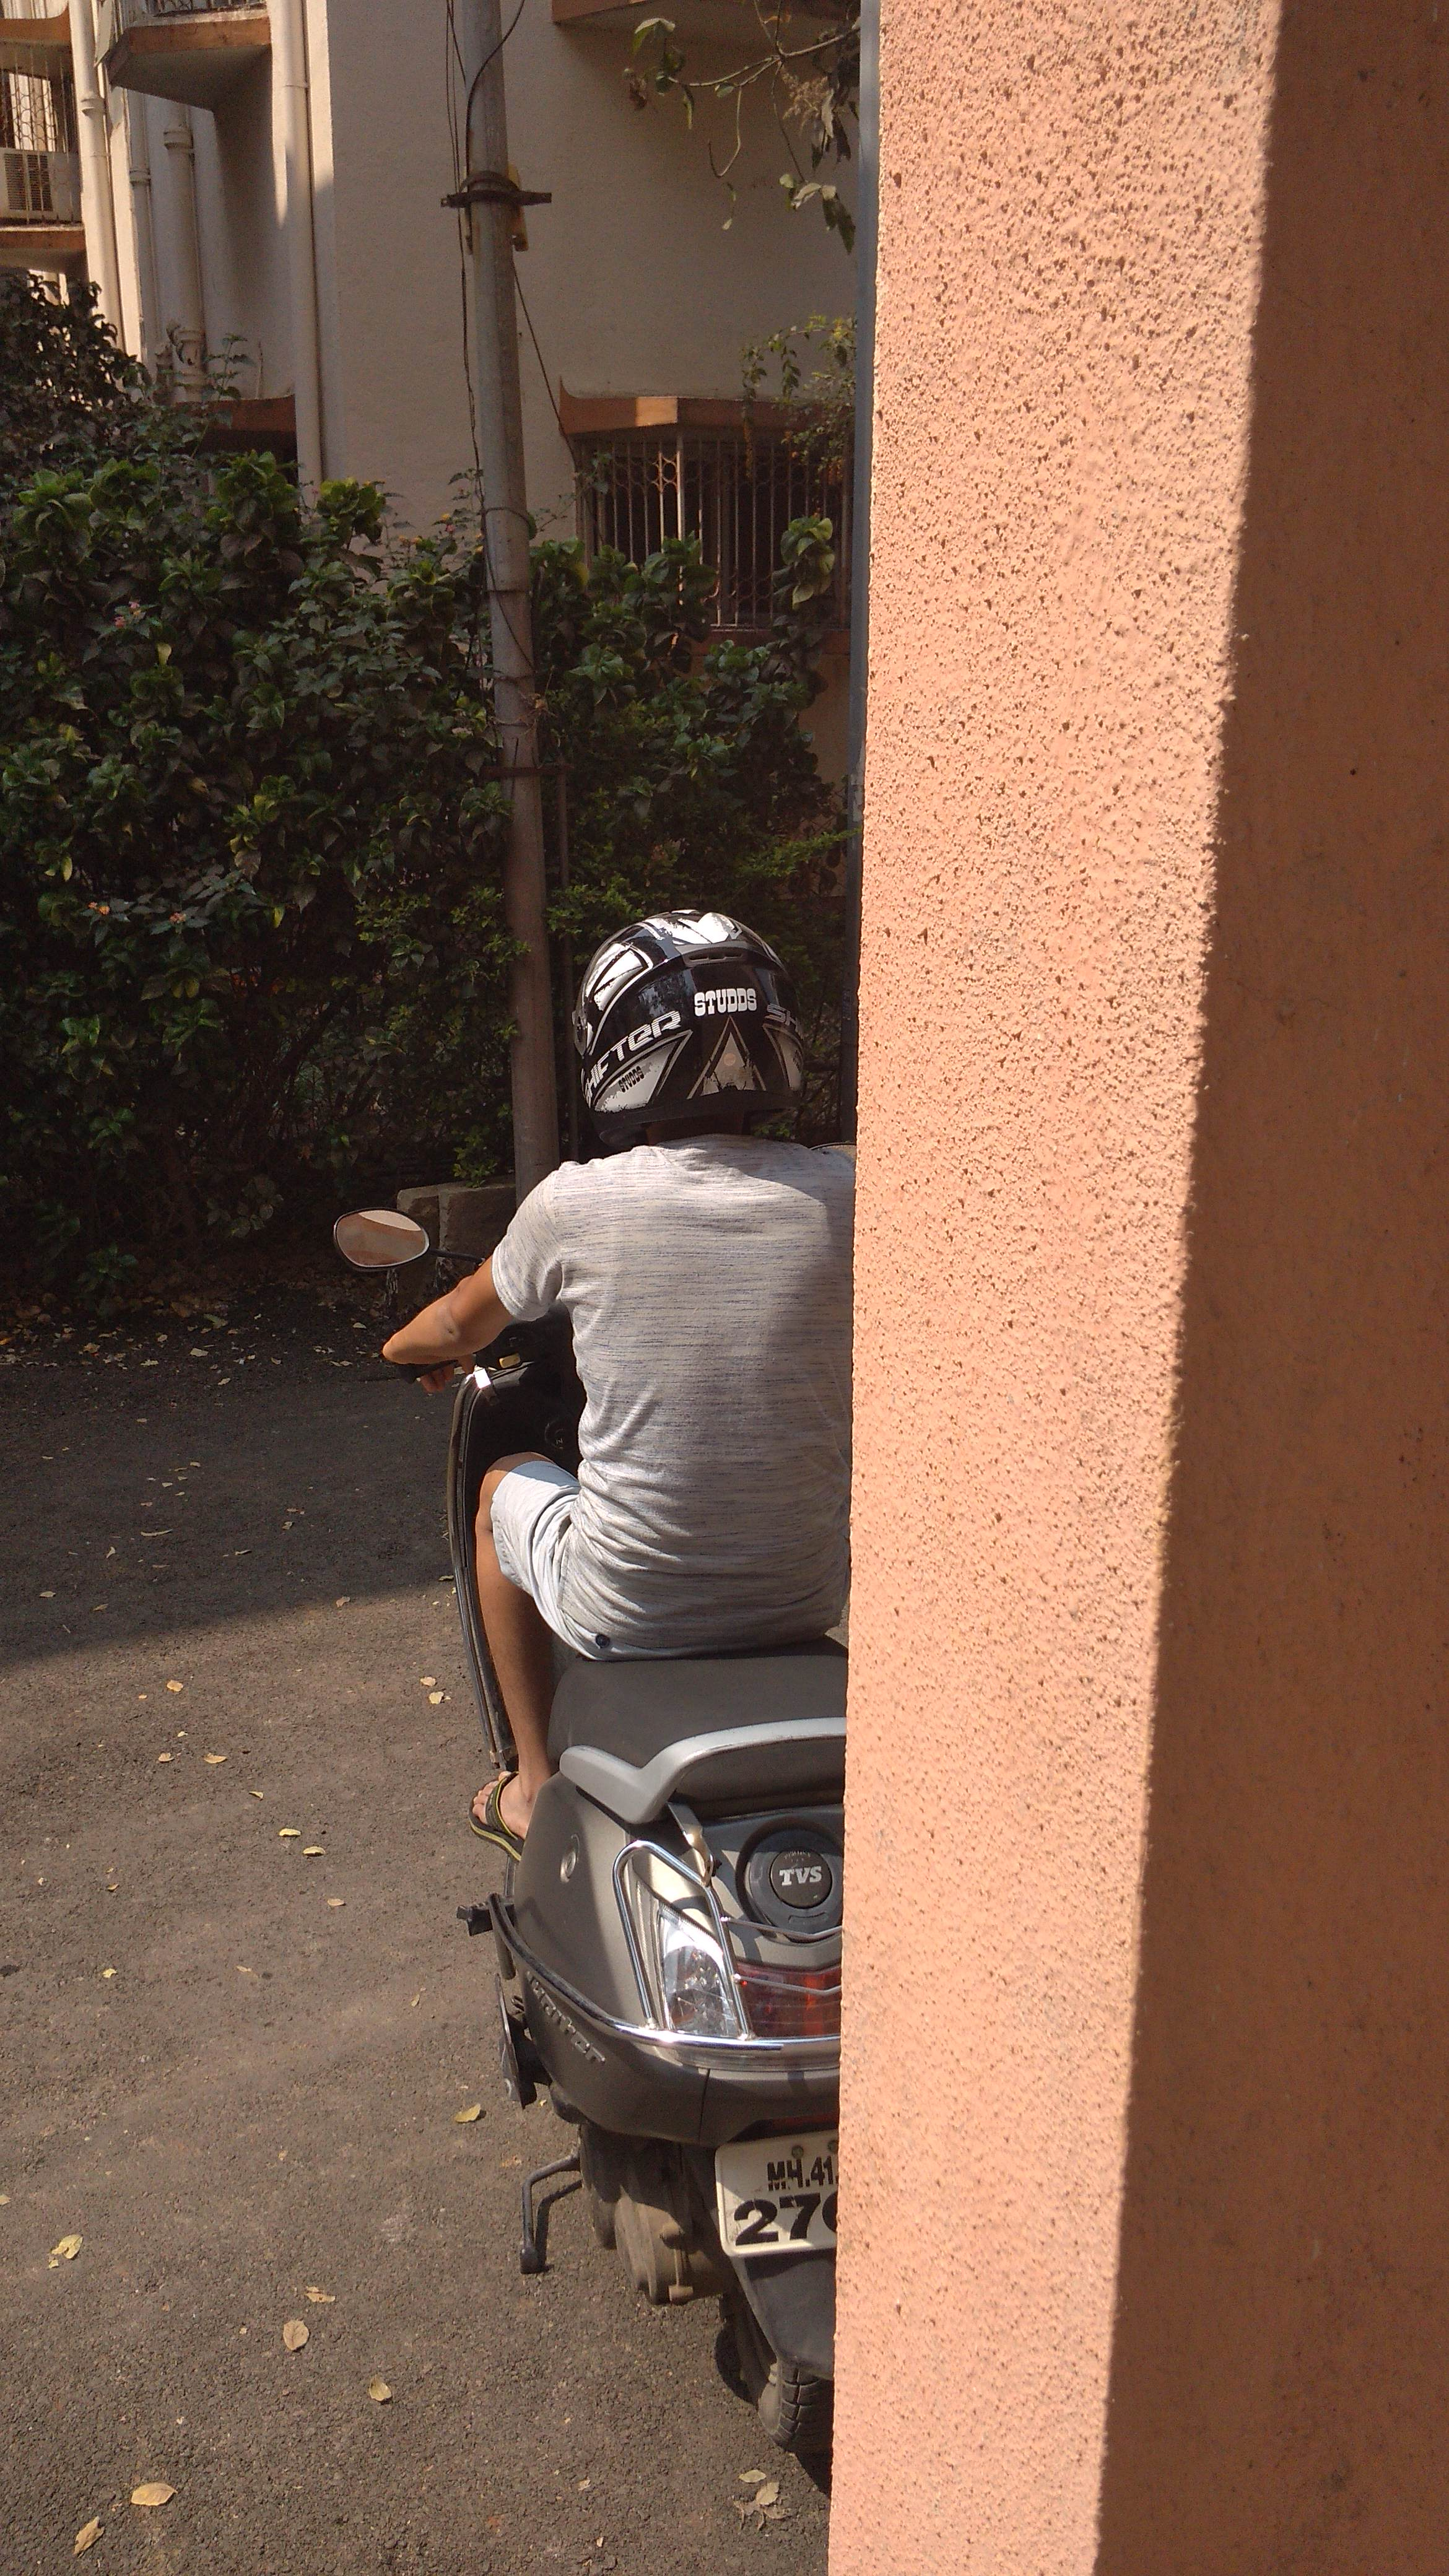helmet: (370, 863, 959, 2151)
